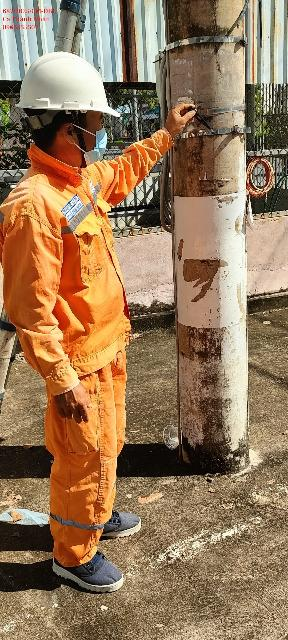helmet: (22, 46, 128, 131)
shoes: (38, 542, 140, 605), (65, 495, 160, 536)
